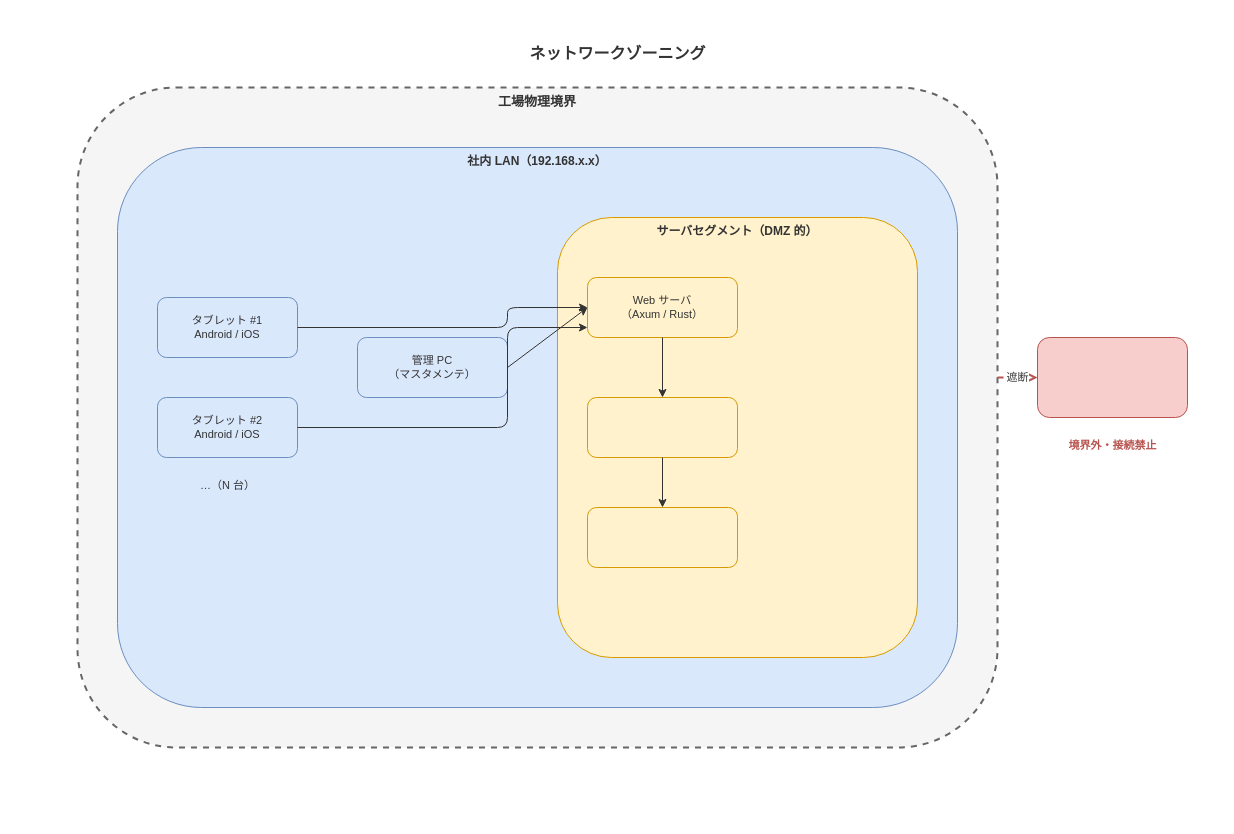
The diagram is 1234 pixels wide and 834 high, and some of its shapes have lost their labels. The box of each missing label's shape, as (x1, y1, x2, y2) in pixels:
DB サーバ （PostgreSQL）: (586, 396, 738, 458)
NAS （バックアップ）: (586, 506, 738, 568)
インターネット（外部） 接続禁止: (1036, 336, 1188, 418)
